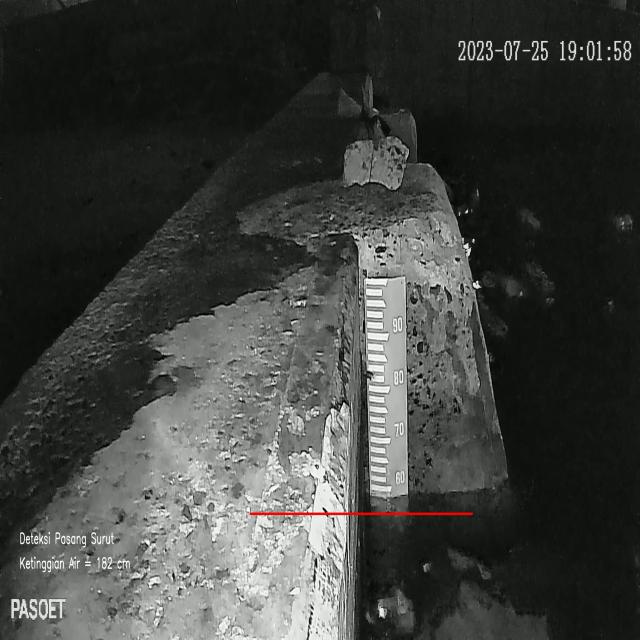60: (395, 469, 406, 486)
70: (394, 420, 405, 438)
80: (393, 367, 404, 387)
90: (392, 314, 403, 335)
staff: (363, 276, 408, 497)
